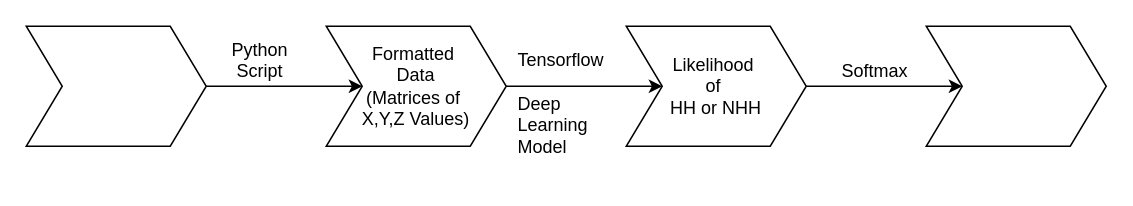
Image size: 1133x206. Some labels were removed from this diagram. Here are the shapes that lost their labels. From the top down, the centre of each, then its label:
(x=115, y=85): Data Files (100 Hz Acceleration)
(x=1015, y=85): 0 = HH 1 = NHH
